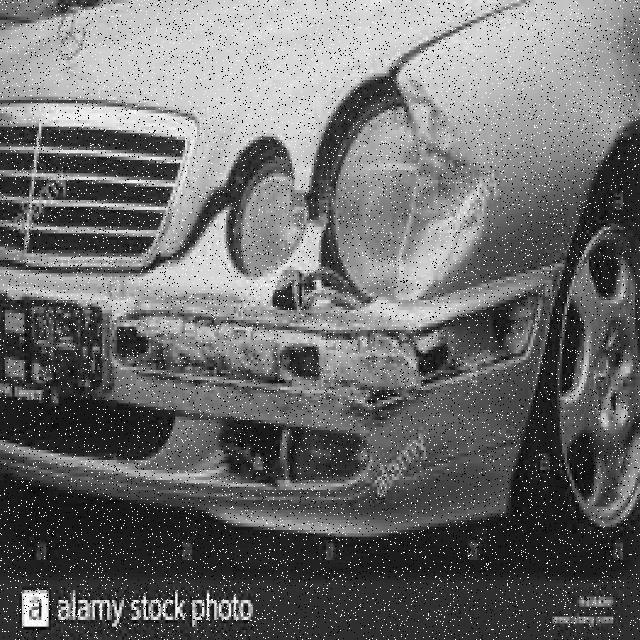fender-dent: (399, 7, 637, 293)
front-bumper-dent: (1, 280, 560, 540)
